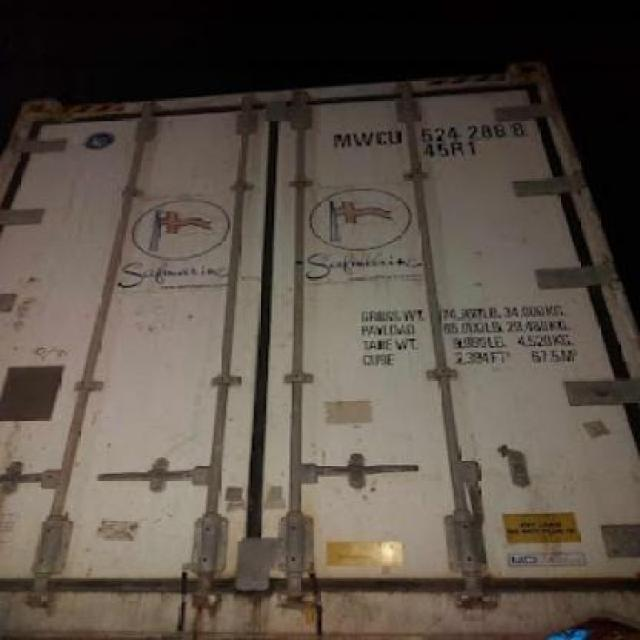ISO: (422, 142, 487, 157)
container_number: (336, 122, 524, 144)
